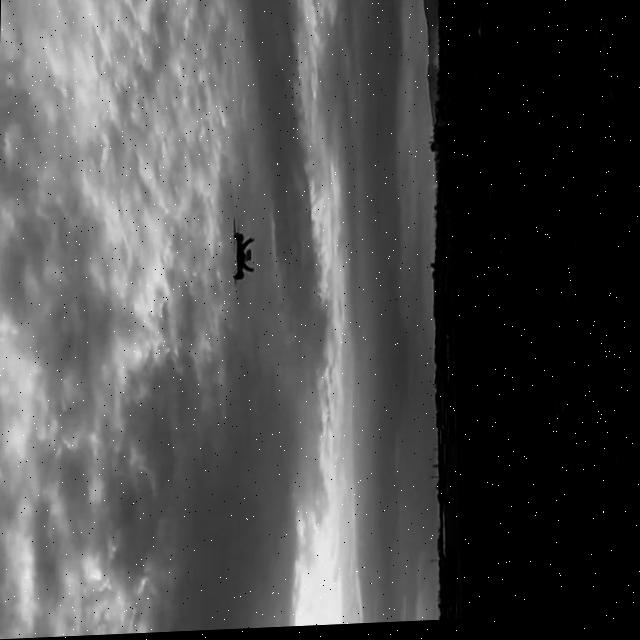drone: (229, 218, 258, 293)
